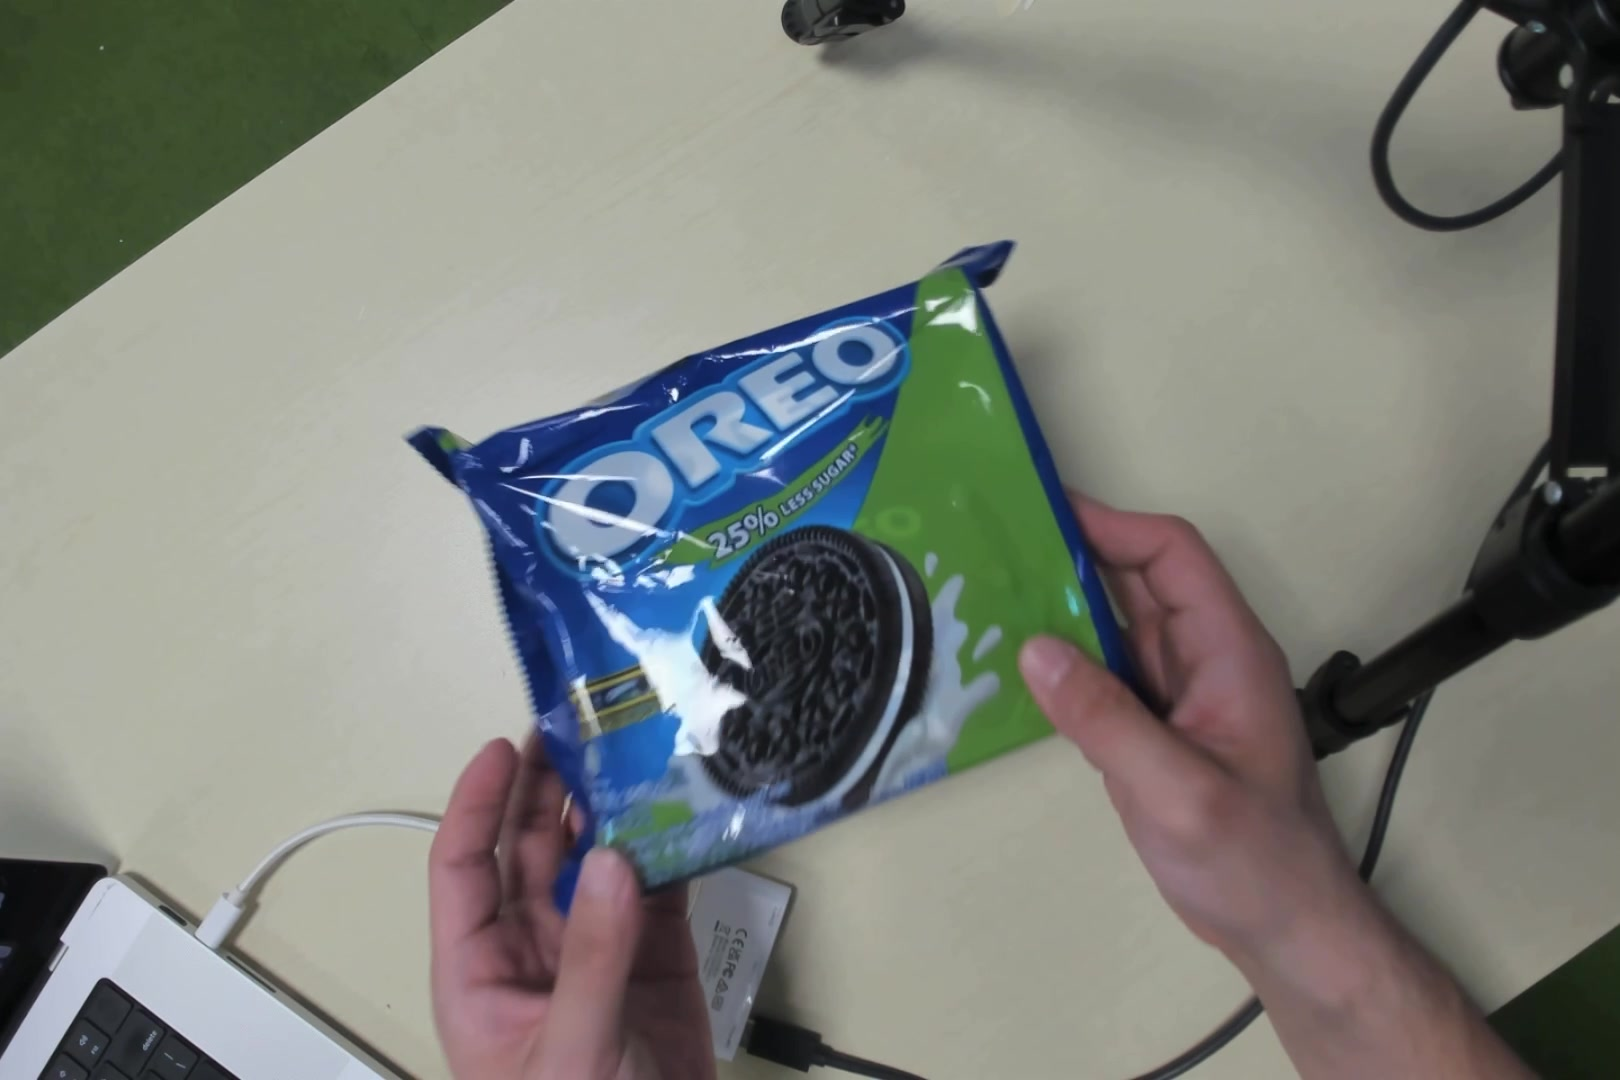SweetsChocolatesOthers_200-299g_Halal_NonHealthy: (520, 317, 1081, 828)
